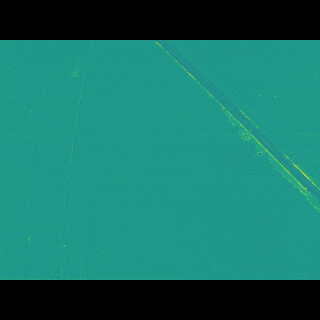Loch: (148, 68, 319, 202), (72, 89, 117, 249), (54, 92, 92, 250), (17, 99, 49, 250)
